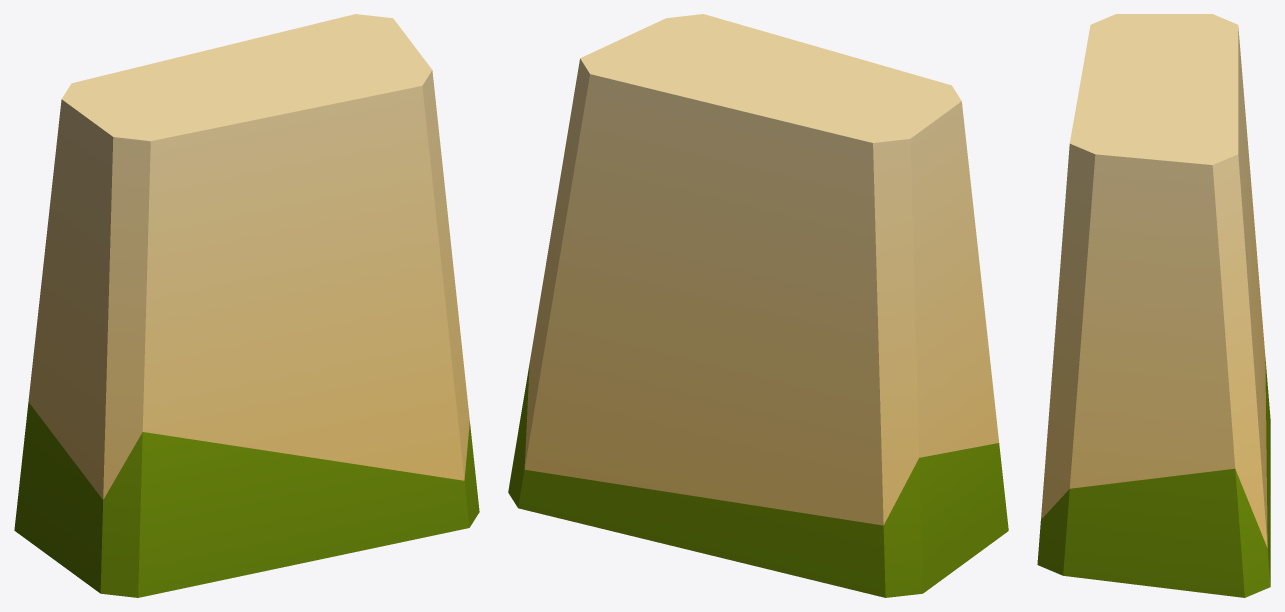
File: Rock_05.fbx
3 views of the same model, side by side, from view 1: azimuth 30°, elevation 25°; view 2: azimuth 150°, elevation 25°; view 3: azimuth 270°, elevation 25° (orthographic). The views are drawn at different scales.
Visible parts, largest first — view 1: Rock_05; view 2: Rock_05; view 3: Rock_05.
Part boxes in pixels (x1,y1,x2,y2): Rock_05: (14,14,479,597); Rock_05: (508,14,1008,597); Rock_05: (1037,14,1270,597).
Bounding box in the file's own units: 608 × 609 × 315.
